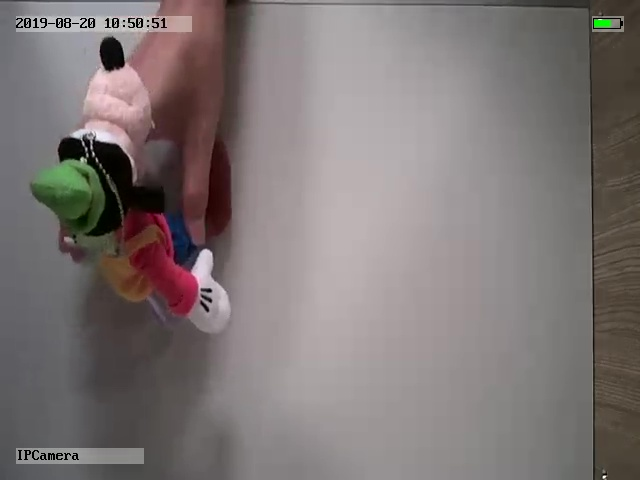goofy: (29, 35, 233, 335)
